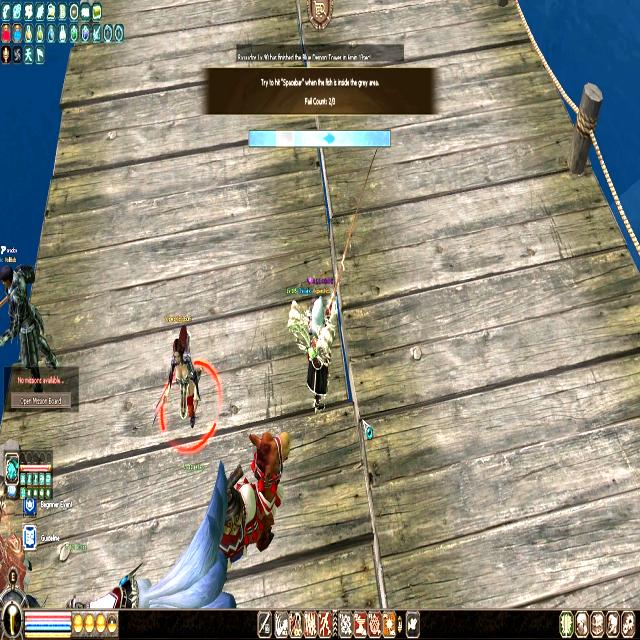fishes: (323, 131, 335, 145)
